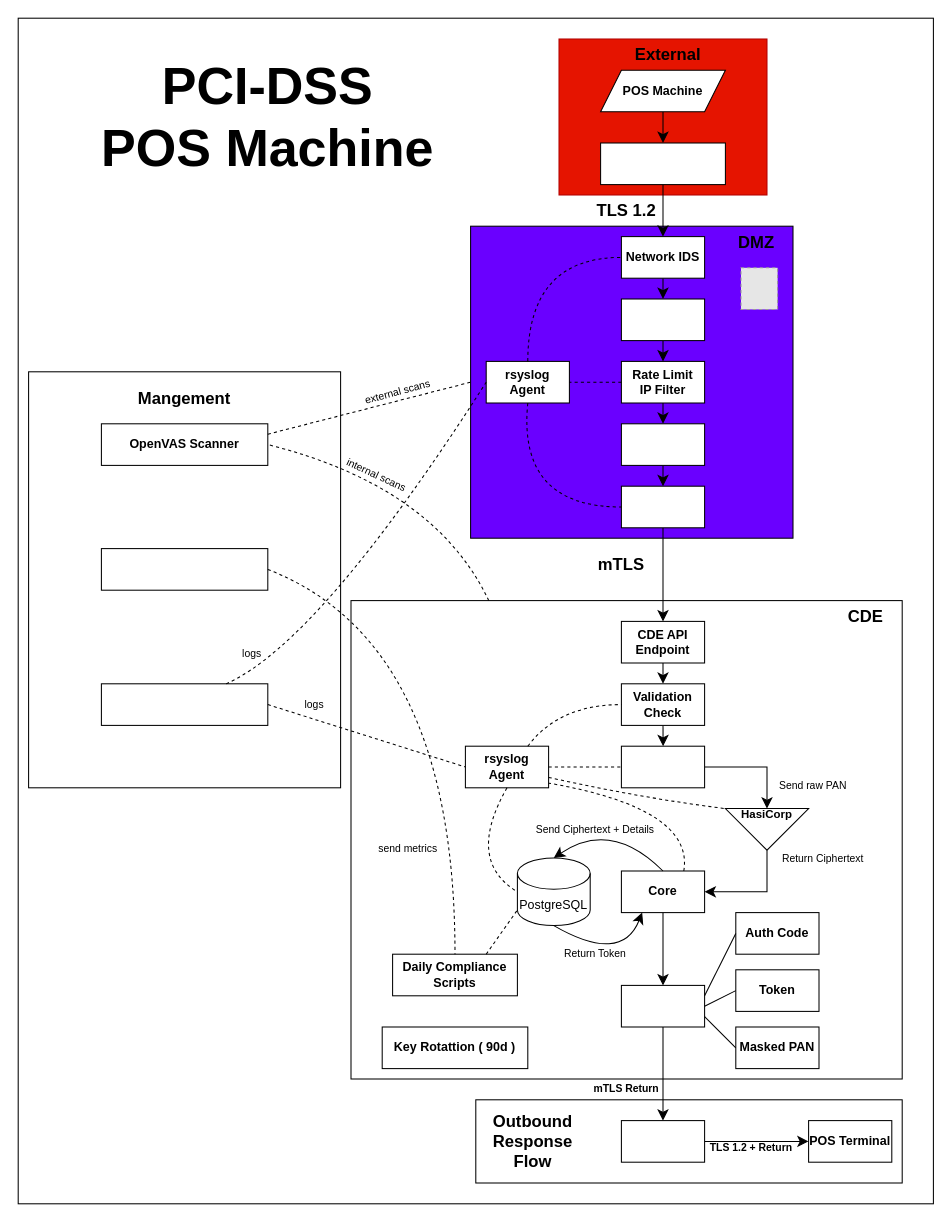
Some shapes in this 952 by 1222 pixel diagram are drawn without their labels. Grey dashed boxes stand in for pictures. The centre of each missing label's shape, as x and y in pixels:
"Compliance Dashboard" goes at (x=184, y=569).
"DMZ Gateway" goes at (x=662, y=1141).
"Endpoint Gateway" goes at (x=662, y=319).
"Extract Raw Card Data" goes at (x=662, y=163).
"Graylog SIEM" goes at (x=184, y=704).
"Reverse Proxy" goes at (x=662, y=506).
"Safe Payload" goes at (x=662, y=1005).
"STRIPS CVV" goes at (x=662, y=766).
"Terminal TLS" goes at (x=662, y=444).
